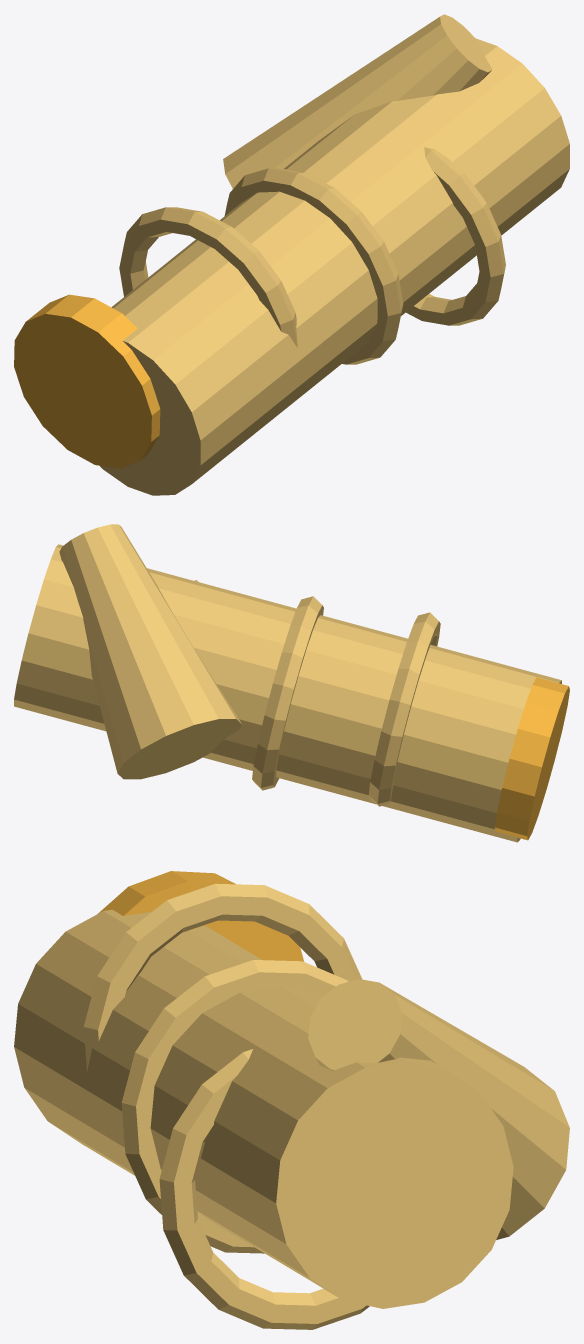
The model's file is kunyit.glb.
3 renders of one model, top to bottom at view 1: azimuth 30°, elevation 25°; view 2: azimuth 150°, elevation 25°; view 3: azimuth 270°, elevation 25°, orthographic. The views are drawn at different scales.
Parts seen in each view (by area): view 1: Cylinder, Cylinder.001, Cone, Torus.001, Torus, Torus.002; view 2: Cylinder, Cone, Cylinder.001, Torus, Torus.001; view 3: Cylinder, Cone, Torus.002, Torus, Torus.001, Cylinder.001.
Boxes of the visible parts, <box> form: Cylinder: <box>100,38,569,495</box>; Cylinder.001: <box>14,294,160,468</box>; Cone: <box>223,14,491,188</box>; Torus.001: <box>224,168,403,364</box>; Torus: <box>119,207,297,347</box>; Torus.002: <box>406,147,505,325</box>; Cylinder: <box>14,544,561,842</box>; Cone: <box>59,524,242,779</box>; Cylinder.001: <box>494,677,569,840</box>; Torus: <box>368,612,440,806</box>; Torus.001: <box>252,596,323,790</box>; Cylinder: <box>14,909,513,1308</box>; Cone: <box>308,979,569,1239</box>; Torus.002: <box>159,1049,369,1329</box>; Torus: <box>83,883,362,1071</box>; Torus.001: <box>121,960,348,1253</box>; Cylinder.001: <box>98,871,304,961</box>.
Bounding box in the file's own units: 0.6793 × 0.3663 × 0.4399.
